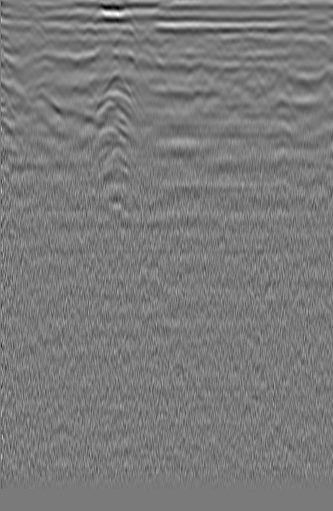가스: (97, 138, 139, 184)
상수: (0, 50, 23, 79)
오수: (283, 31, 317, 65)
우수: (154, 36, 183, 67)
